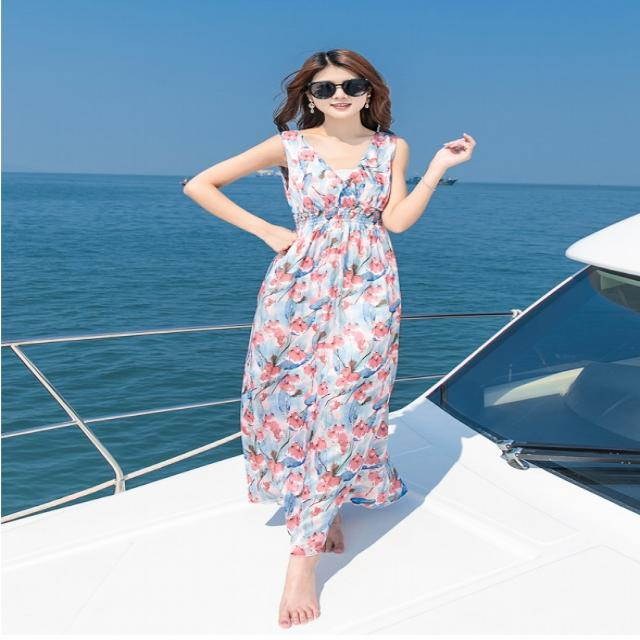clothes: (234, 126, 416, 552)
